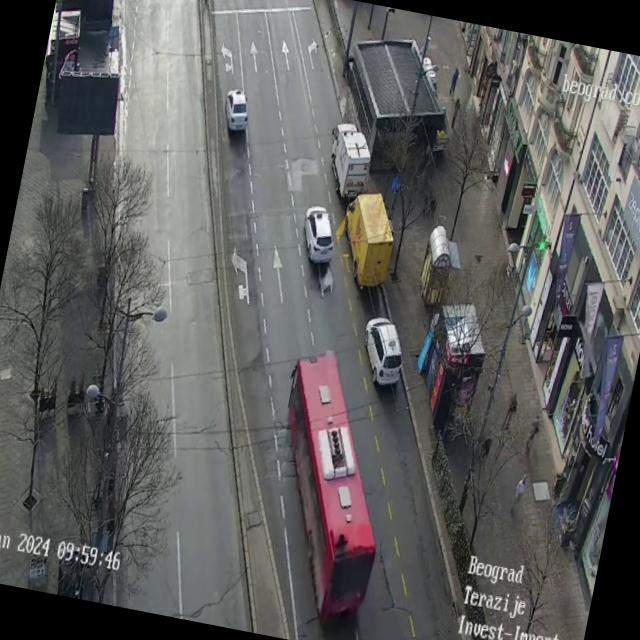bus: (246, 342, 412, 632)
car: (354, 314, 410, 390), (296, 204, 341, 268), (220, 87, 253, 134)
truck: (332, 190, 405, 292), (323, 120, 377, 201)
